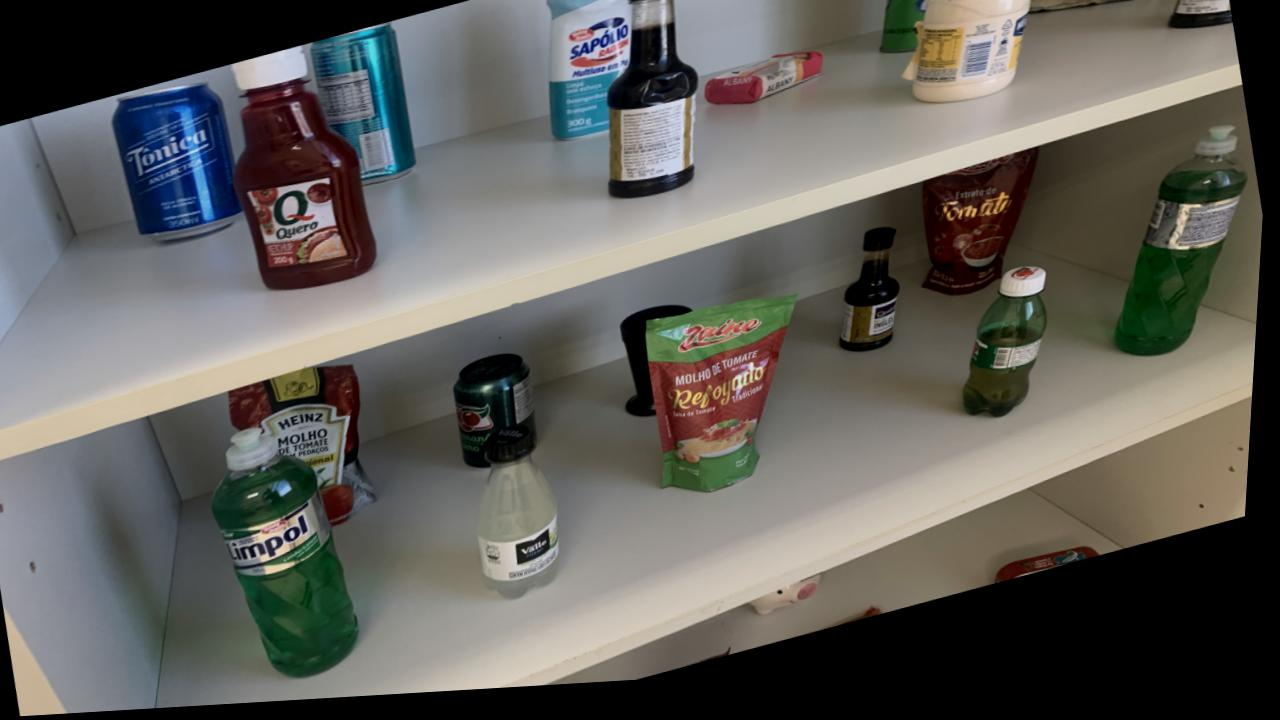Cleaner-Cleanup_Items: (546, 0, 632, 147)
Detergent-Cleanup_Items: (217, 431, 366, 682), (1118, 141, 1250, 371)
English_Sauce-Pantry_Items: (608, 0, 700, 206), (843, 238, 904, 363), (1169, 0, 1233, 44)
Flakes-Snacks: (1031, 0, 1166, 24)
Guarana-Drinks: (968, 279, 1052, 430)
Guarana_Can-Drinks: (458, 360, 540, 474)
Ketchup-Pantry_Items: (232, 50, 380, 294)
Mayonnaise-Pantry_Items: (914, 0, 1033, 115)
Pig_Safe-Miscellaneous: (758, 585, 829, 625)
Pringles-Snacks: (881, 0, 938, 64), (915, 86, 1016, 114)
Soap-Cleanup_Items: (705, 61, 825, 114)
Soda-Drinks: (483, 431, 566, 606)
Tea-Drinks: (311, 27, 418, 190)
Tomato_Sauce-Pantry_Items: (649, 304, 801, 501), (233, 369, 382, 529), (924, 161, 1041, 308)
Tonic-Drinks: (112, 85, 243, 243)
Tuna_Can-Pantry_Items: (1002, 560, 1106, 596)
